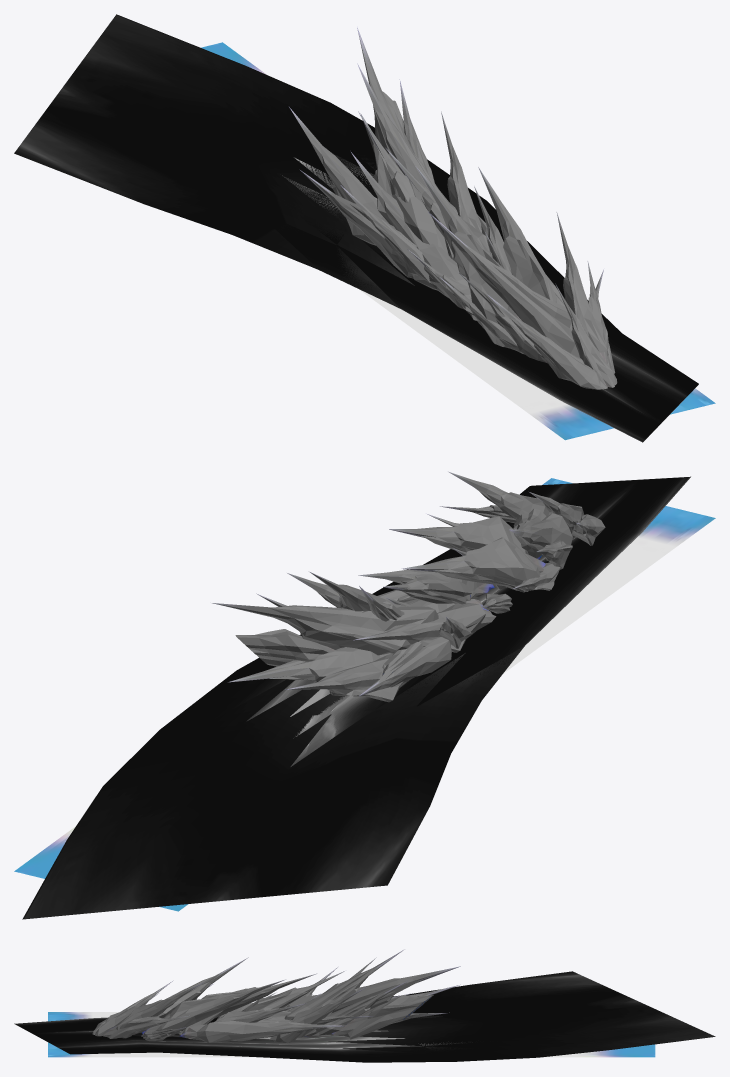
The model's file is arcaneEffectTrail.glb.
The picture shows the model from 3 angles, top to bottom: view 1: azimuth 30°, elevation 25°; view 2: azimuth 150°, elevation 25°; view 3: azimuth 270°, elevation 25°; orthographic projection. The views are drawn at different scales.
Visible parts, largest first — view 1: 8fx_jaina_freezingblast_impactworld_Geoset5, 8fx_jaina_freezingblast_impactworld_Geoset1, 8fx_jaina_freezingblast_impactworld_Geoset0; view 2: 8fx_jaina_freezingblast_impactworld_Geoset5, 8fx_jaina_freezingblast_impactworld_Geoset1, 8fx_jaina_freezingblast_impactworld_Geoset0; view 3: 8fx_jaina_freezingblast_impactworld_Geoset5, 8fx_jaina_freezingblast_impactworld_Geoset1, 8fx_jaina_freezingblast_impactworld_Geoset0.
Boxes of the visible parts, bbox=[...] form: 8fx_jaina_freezingblast_impactworld_Geoset5: bbox=[14, 14, 698, 442]; 8fx_jaina_freezingblast_impactworld_Geoset1: bbox=[289, 27, 617, 389]; 8fx_jaina_freezingblast_impactworld_Geoset0: bbox=[201, 42, 715, 440]; 8fx_jaina_freezingblast_impactworld_Geoset5: bbox=[22, 476, 690, 919]; 8fx_jaina_freezingblast_impactworld_Geoset1: bbox=[212, 471, 605, 702]; 8fx_jaina_freezingblast_impactworld_Geoset0: bbox=[14, 478, 715, 911]; 8fx_jaina_freezingblast_impactworld_Geoset5: bbox=[14, 971, 715, 1062]; 8fx_jaina_freezingblast_impactworld_Geoset1: bbox=[92, 949, 460, 1043]; 8fx_jaina_freezingblast_impactworld_Geoset0: bbox=[48, 1012, 655, 1057].
Bounding box in the file's own units: 0.3094 × 0.1513 × 1.
3 materials, 3 textured.
